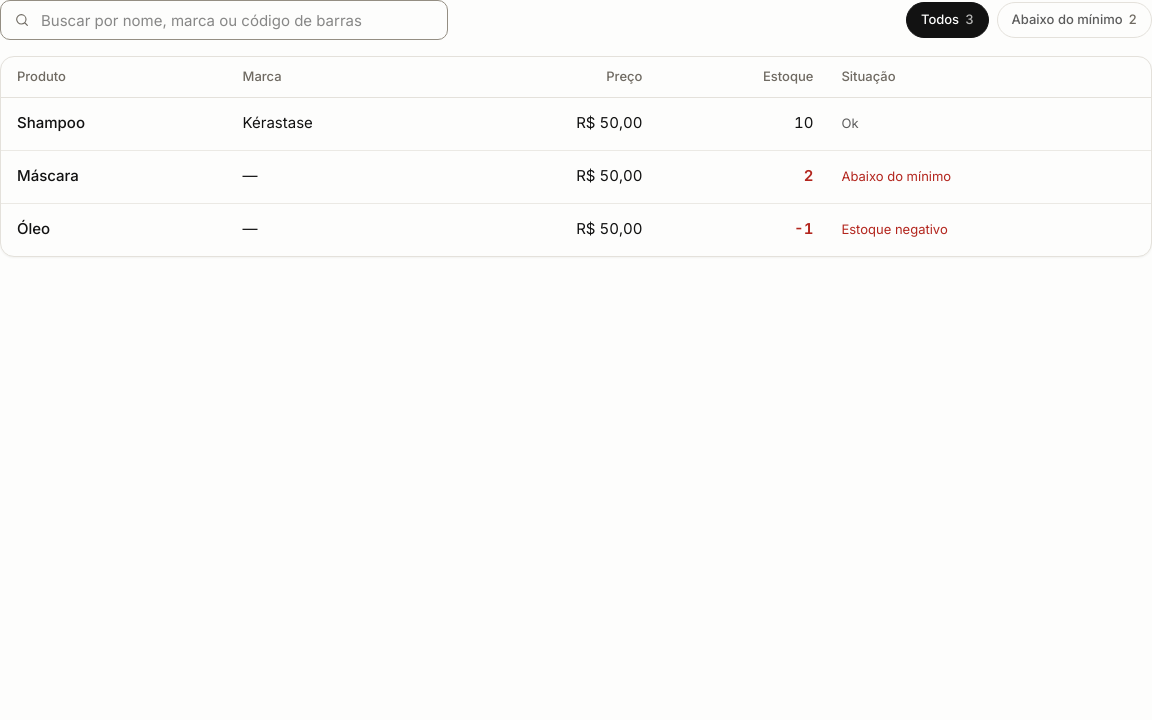
it: sem permissão nenhuma, não há Novo produto, Entrada, Saída nem Ajustar; a folha só mostra os dados
Click the button "Shampoo" at (116, 124), box top-left (17, 102), bottom-right (214, 146)
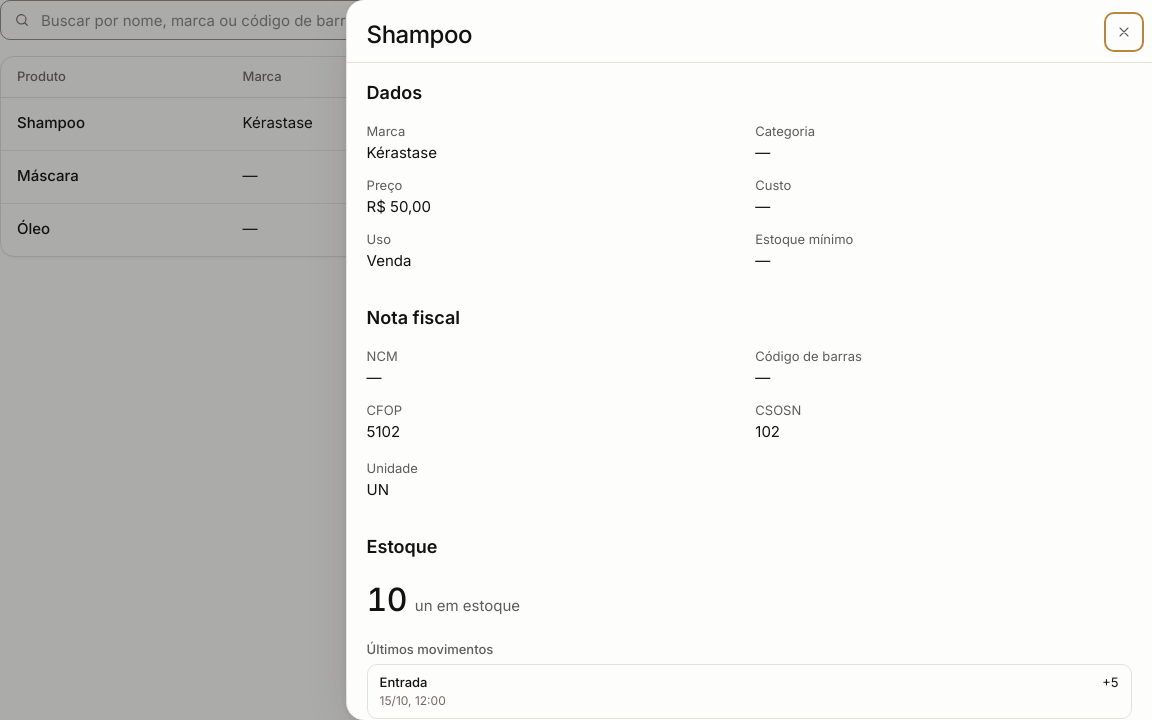
Result: the text "5102" is shown at top-left (367, 422), bottom-right (400, 440)
